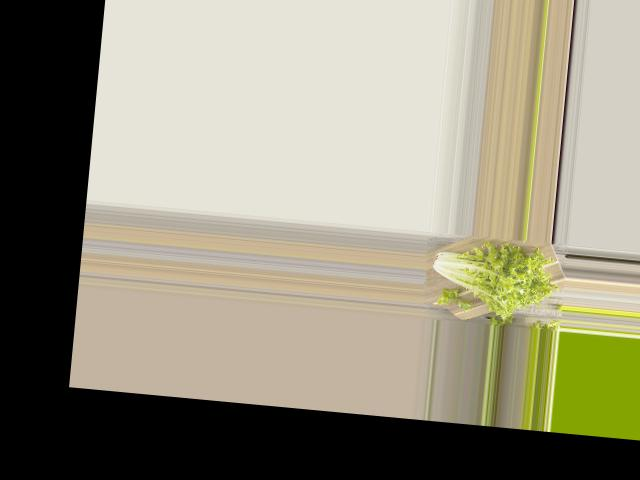lettuce: (422, 235, 556, 321)
